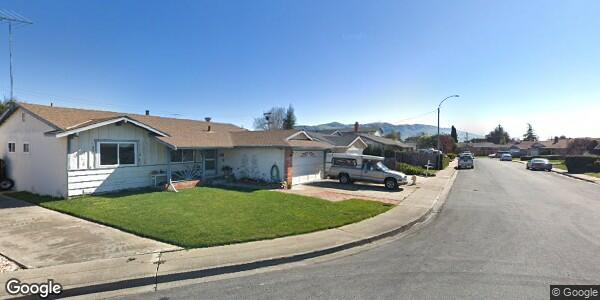Steel_Pole: (436, 92, 462, 173)
